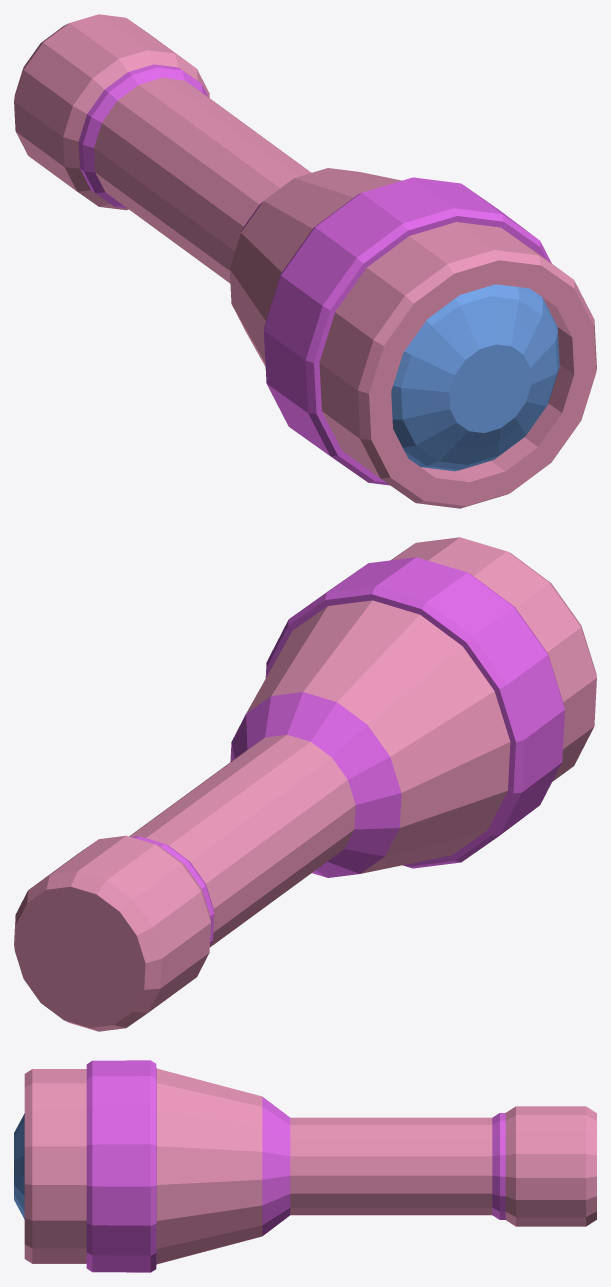
File: flashlight.fbx
The picture shows the model from 3 angles, top to bottom: view 1: azimuth 30°, elevation 25°; view 2: azimuth 150°, elevation 25°; view 3: azimuth 270°, elevation 25°; orthographic projection. The views are drawn at different scales.
Parts seen in each view (by area): view 1: FlashLight; view 2: FlashLight; view 3: FlashLight.
Part boxes in pixels (<box>): FlashLight: <box>14,14,596,508</box>; FlashLight: <box>14,537,596,1031</box>; FlashLight: <box>14,1060,596,1272</box>.
Size of the model in its own units: 12.21 by 12.21 by 33.26.
